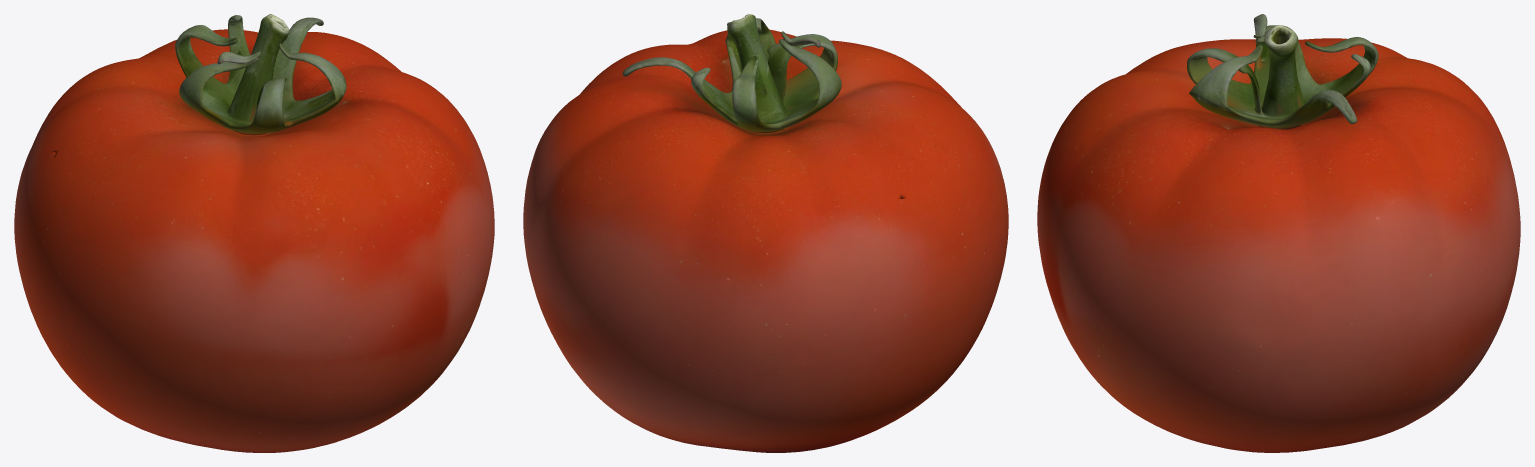
The model's file is red_peppers.glb.
3 renders of one model, left to right at view 1: azimuth 30°, elevation 25°; view 2: azimuth 150°, elevation 25°; view 3: azimuth 270°, elevation 25°, orthographic.
Visible parts, largest first — view 1: node_0; view 2: node_0; view 3: node_0.
Part boxes in pixels (x1,y1,x2,y2): node_0: (14,14,494,452); node_0: (523,14,1008,452); node_0: (1037,14,1520,452).
Bounding box in the file's own units: 1.17 × 1.05 × 1.16.
1 material, 1 textured.
